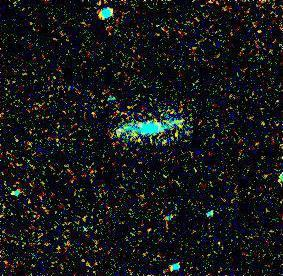star: (79, 99, 109, 129)
